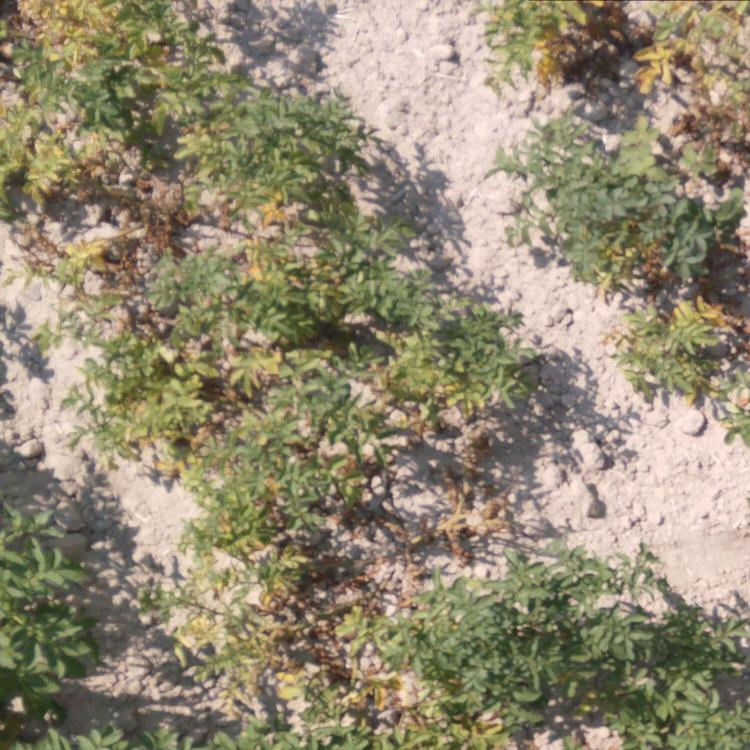healthy: (424, 564, 750, 746), (1, 502, 106, 750)
stressed: (66, 264, 528, 472), (156, 471, 418, 749), (1, 102, 411, 252), (515, 105, 750, 268), (484, 10, 748, 97), (1, 1, 218, 97), (617, 274, 748, 417), (434, 496, 518, 556)
